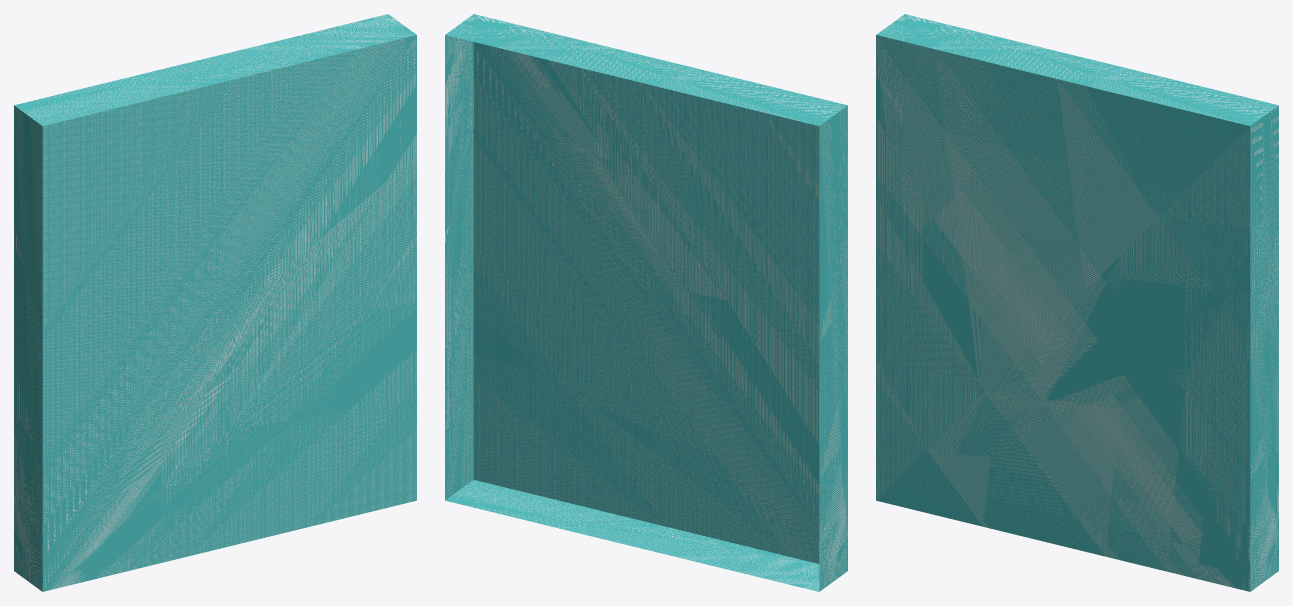
The model's file is original-13.obj.
The picture shows the model from 3 angles, left to right: view 1: azimuth 30°, elevation 25°; view 2: azimuth 150°, elevation 25°; view 3: azimuth 330°, elevation 25°; orthographic projection.
Visible parts, largest first — view 1: mesh2/mesh2-geometry/material_1/component_1#mesh2-geometry; view 2: mesh2/mesh2-geometry/material_1/component_1#mesh2-geometry; view 3: mesh2/mesh2-geometry/material_1/component_1#mesh2-geometry.
Part boxes in pixels (bbox=[...]): mesh2/mesh2-geometry/material_1/component_1#mesh2-geometry: bbox=[14, 14, 416, 591]; mesh2/mesh2-geometry/material_1/component_1#mesh2-geometry: bbox=[445, 14, 847, 591]; mesh2/mesh2-geometry/material_1/component_1#mesh2-geometry: bbox=[876, 14, 1278, 591].
Bounding box in the file's own units: 0.0503 × 0.0598 × 0.00665.
